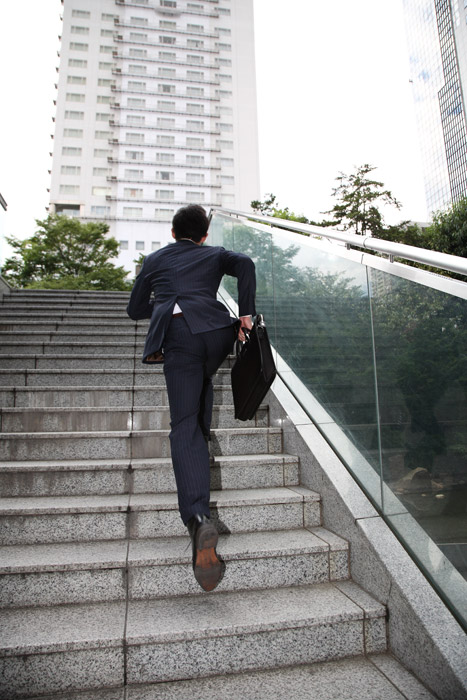male: (124, 203, 261, 596)
